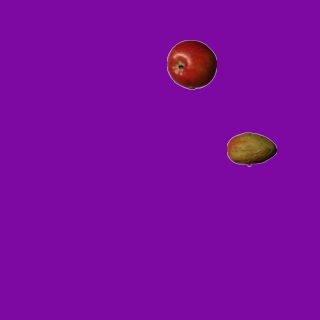Apple Braeburn: (166, 39, 216, 89)
Papaya: (226, 124, 276, 174)
